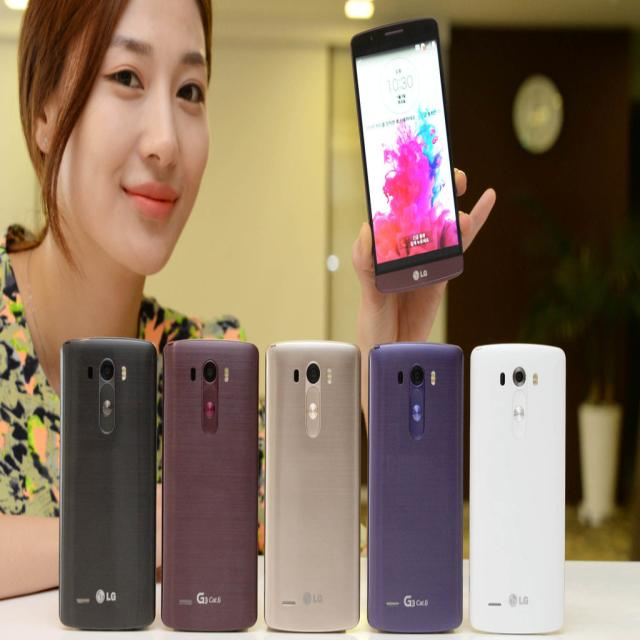Mobile-phone: (346, 24, 478, 300), (160, 336, 259, 636), (263, 338, 362, 638), (58, 338, 157, 634), (368, 345, 466, 636), (470, 343, 564, 634)
